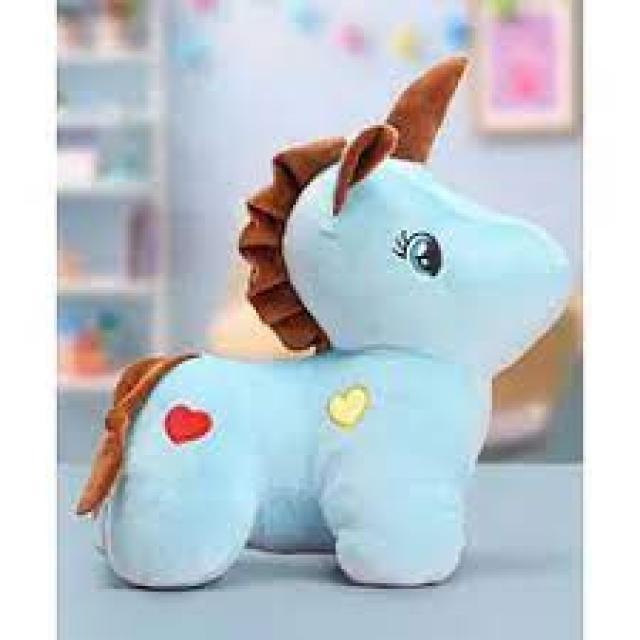soft-toy: (79, 60, 570, 588)
